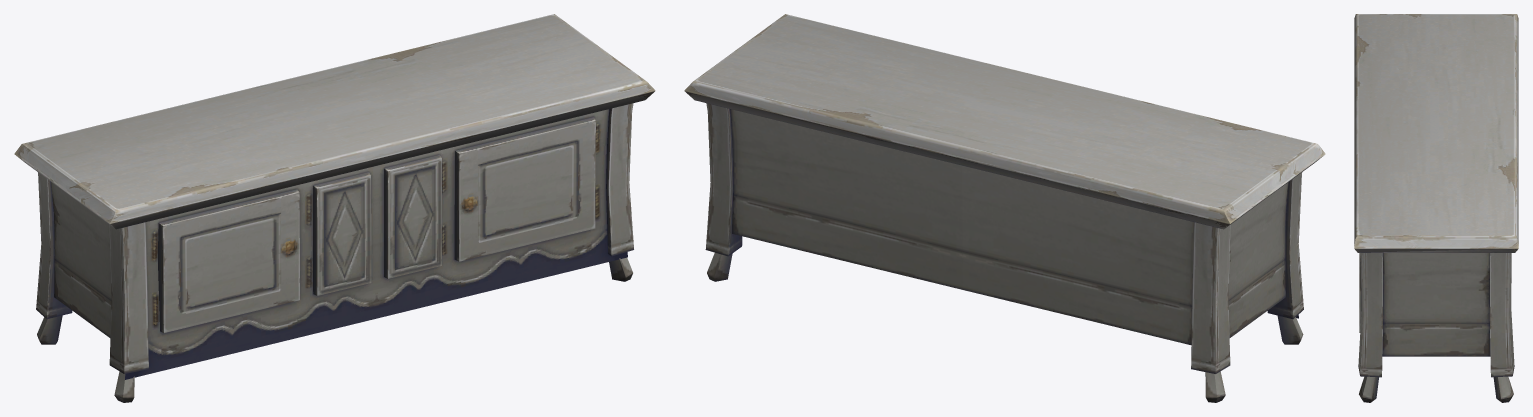
The model's file is muebleTelevisor.fbx.
The picture shows the model from 3 angles, left to right: view 1: azimuth 30°, elevation 25°; view 2: azimuth 150°, elevation 25°; view 3: azimuth 270°, elevation 25°; orthographic projection. The views are drawn at different scales.
Parts seen in each view (by area): view 1: s4studio_mesh_2; view 2: s4studio_mesh_2; view 3: s4studio_mesh_2.
Part boxes in pixels (bbox=[...]): s4studio_mesh_2: bbox=[14, 14, 655, 402]; s4studio_mesh_2: bbox=[684, 14, 1325, 402]; s4studio_mesh_2: bbox=[1354, 14, 1518, 402].
Size of the model in its own units: 180 by 62.5 by 54.65.
1 material, 1 textured.
